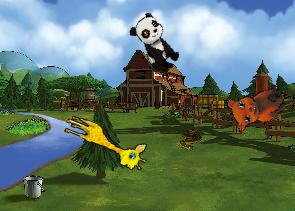bear: (221, 71, 292, 138)
giraffe: (57, 112, 152, 174)
panda: (125, 10, 186, 77)
